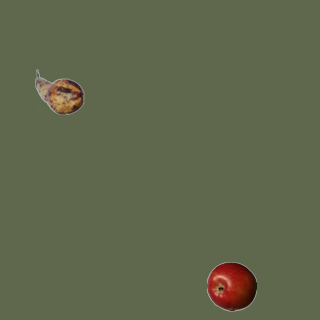Apple Braeburn: (206, 261, 256, 311)
Pear Abate: (34, 67, 84, 117)
